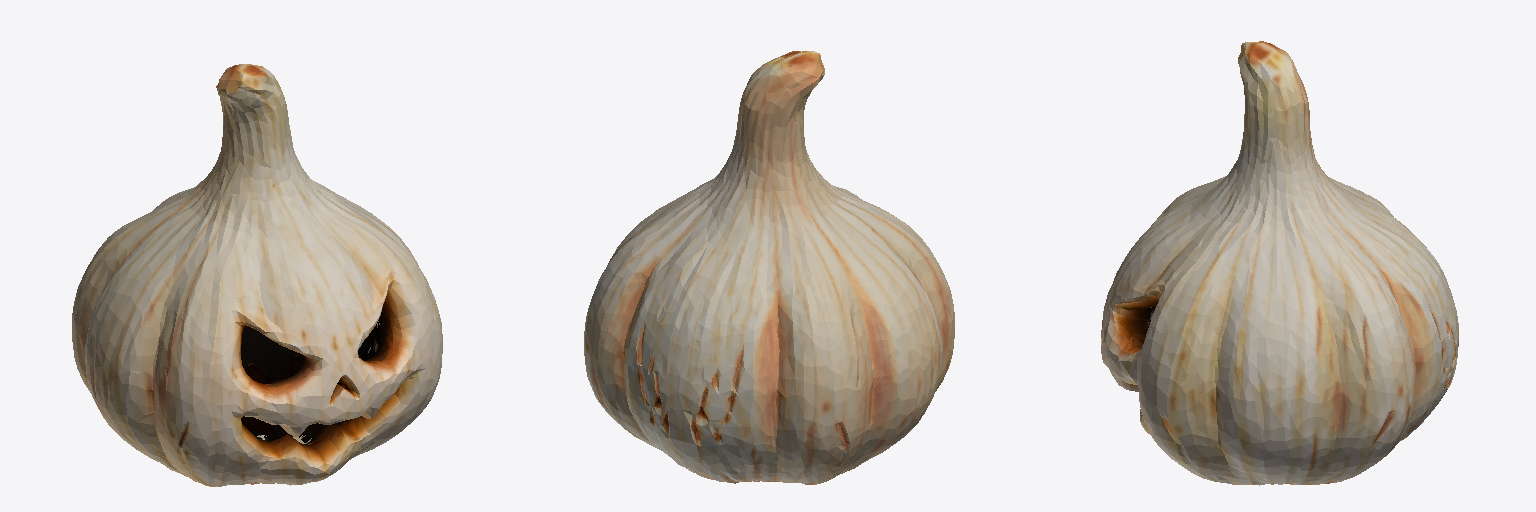
3 views of the same model, side by side, from view 1: azimuth 30°, elevation 25°; view 2: azimuth 150°, elevation 25°; view 3: azimuth 270°, elevation 25° (orthographic).
Visible parts, largest first — view 1: Garlic_Goblin_[number redacted]_texture; view 2: Garlic_Goblin_[number redacted]_texture; view 3: Garlic_Goblin_[number redacted]_texture.
Boxes of the visible parts, x1,y1,x2,y2 form: Garlic_Goblin_[number redacted]_texture: [72, 64, 442, 486]; Garlic_Goblin_[number redacted]_texture: [584, 51, 954, 484]; Garlic_Goblin_[number redacted]_texture: [1101, 41, 1458, 485].
Size of the model in its own units: 1.58 by 1.91 by 1.54.
Materials: 1 (1 with a texture image).